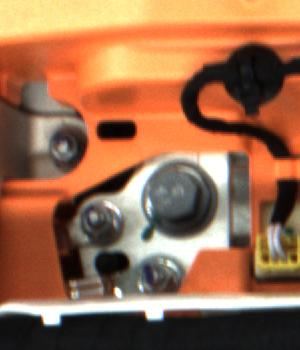nut_b: (137, 164, 213, 235)
screw_s: (130, 252, 174, 296), (79, 198, 116, 240), (46, 125, 78, 164)
